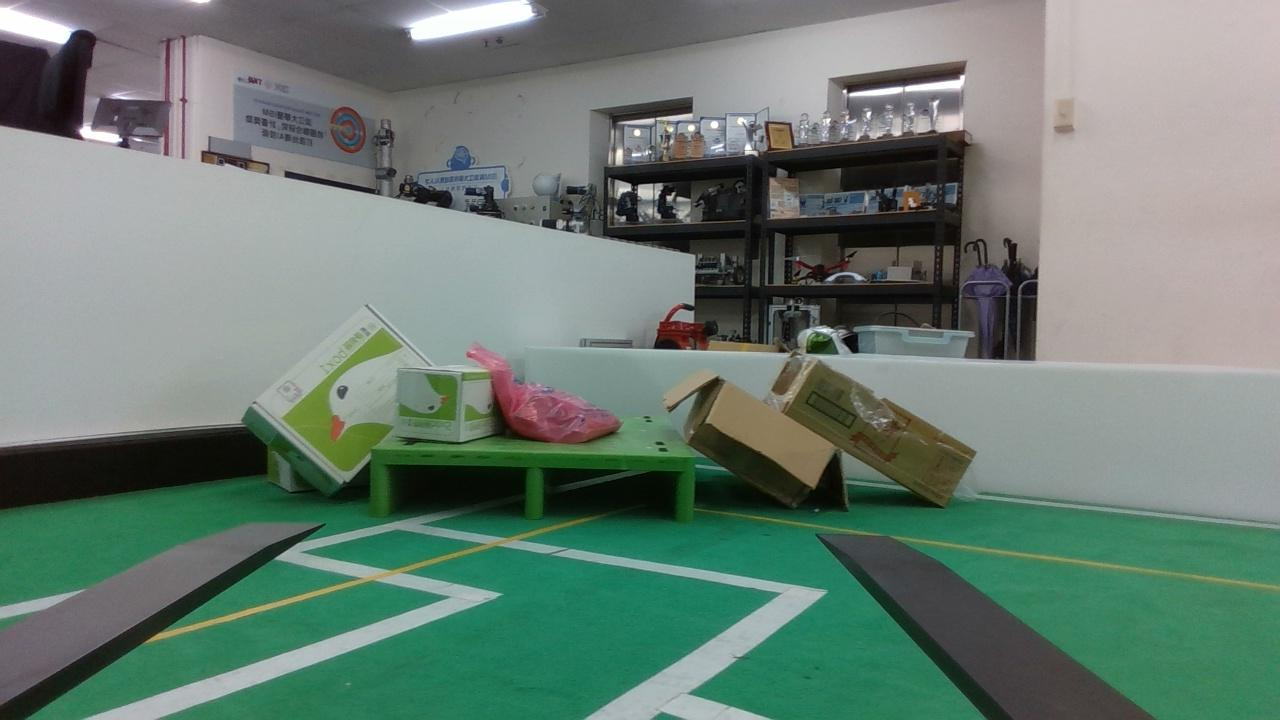Pallet: (371, 445, 697, 523)
